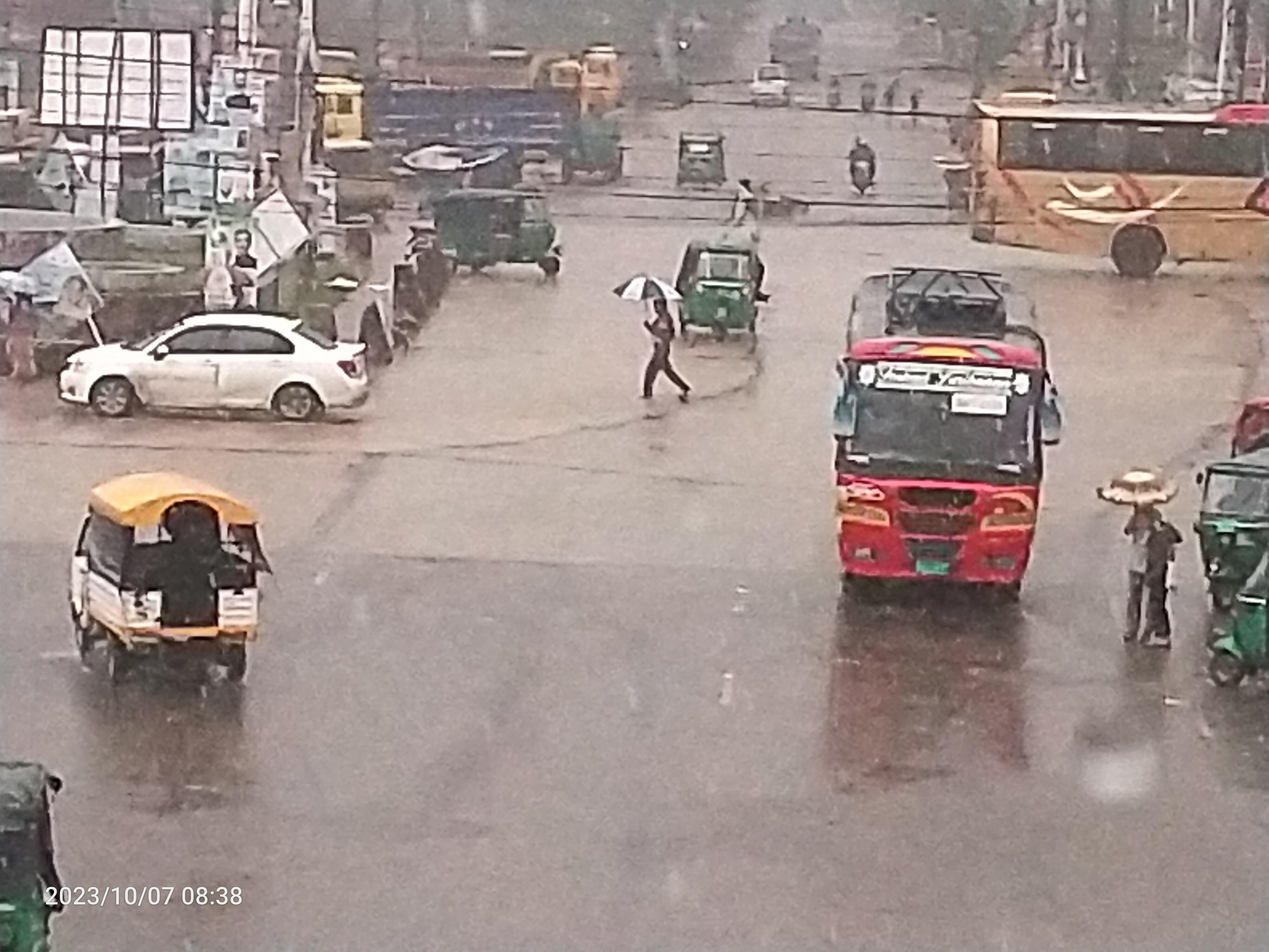Bike: (822, 127, 890, 199)
Bus: (801, 248, 1100, 631), (950, 63, 1269, 291)
Car: (39, 450, 281, 719), (33, 313, 394, 452), (737, 54, 795, 119)
Truck: (263, 53, 597, 192)
